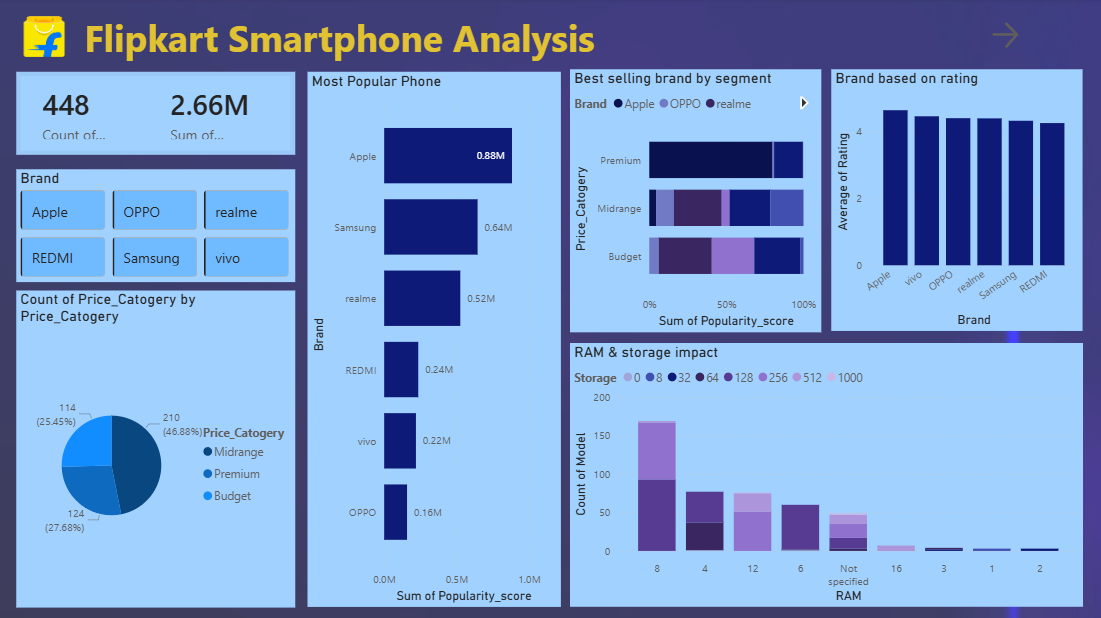

This screenshot's page, from the dashboard's own definition file:
{"tool":"powerbi","page":{"name":"Page 1","canvas":[1280,720],"ordinal":0},"visuals":[{"type":"image","box":[14.4,13,83.8,63.6],"z":0},{"type":"textbox","box":[98.2,11.6,612.4,73.7],"z":1000},{"type":"cardVisual","fields":{"Data":["CountNonNull(Flipkart Smartphone Analysis.Product Name)","Sum(Flipkart Smartphone Analysis.Popularity_score)"]},"box":[25,85,322.5,96.2],"z":2000},{"type":"advancedSlicerVisual","fields":{"Values":["Flipkart Smartphone Analysis.Brand"]},"box":[25,197.5,322.5,130],"z":3000},{"type":"pieChart","fields":{"Category":["Flipkart Smartphone Analysis.Price_Catogery"],"Y":["CountNonNull(Flipkart Smartphone Analysis.Price_Catogery)"]},"box":[25,337.5,322.5,366.2],"z":4000},{"type":"barChart","title":"Most Popular Phone","fields":{"Y":["Sum(Flipkart Smartphone Analysis.Popularity_score)"],"Category":["Flipkart Smartphone Analysis.Brand"]},"box":[361.2,85,292.5,618.8],"z":5000},{"type":"clusteredColumnChart","title":"Brand based on rating","fields":{"Y":["Avg(Flipkart Smartphone Analysis.Rating)"],"Category":["Flipkart Smartphone Analysis.Brand"]},"box":[966.2,82.5,290,302.5],"z":6000},{"type":"hundredPercentStackedBarChart","title":"Best selling brand by segment","fields":{"Category":["Flipkart Smartphone Analysis.Price_Catogery"],"Series":["Flipkart Smartphone Analysis.Brand"],"Y":["Sum(Flipkart Smartphone Analysis.Popularity_score)"]},"box":[663.8,82.5,290,303.8],"z":7000},{"type":"actionButton","box":[1146.2,22.5,100,40],"z":8000},{"type":"columnChart","title":"RAM & storage impact","fields":{"Category":["Flipkart Smartphone Analysis.RAM"],"Y":["CountNonNull(Flipkart Smartphone Analysis.Model)"],"Series":["Flipkart Smartphone Analysis.Storage"]},"box":[663.8,398.8,592.5,305],"z":11000}]}

Visuals, with their boxes in screenshot pixels (x1, y1, x2, y2), scaled from the page's 1280x720 canvas onto the 1101x618 screenshot:
image: [left=12, top=11, right=84, bottom=66]
textbox: [left=84, top=10, right=611, bottom=73]
cardVisual - CountNonNull(Flipkart Smartphone Analysis.Product Name) x Sum(Flipkart Smartphone Analysis.Popularity_score): [left=22, top=73, right=299, bottom=156]
advancedSlicerVisual - Flipkart Smartphone Analysis.Brand: [left=22, top=170, right=299, bottom=281]
pieChart - Flipkart Smartphone Analysis.Price_Catogery x CountNonNull(Flipkart Smartphone Analysis.Price_Catogery): [left=22, top=290, right=299, bottom=604]
"Most Popular Phone" barChart: [left=311, top=73, right=562, bottom=604]
"Brand based on rating" clusteredColumnChart: [left=831, top=71, right=1081, bottom=330]
"Best selling brand by segment" hundredPercentStackedBarChart: [left=571, top=71, right=820, bottom=332]
actionButton: [left=986, top=19, right=1072, bottom=54]
"RAM & storage impact" columnChart: [left=571, top=342, right=1081, bottom=604]
